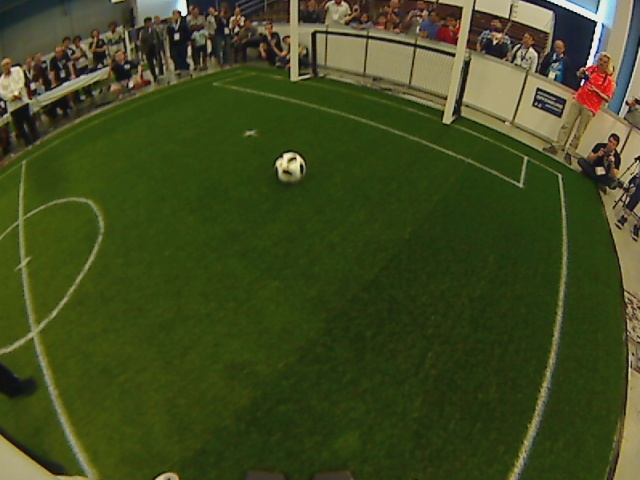ball: (273, 150, 306, 183)
